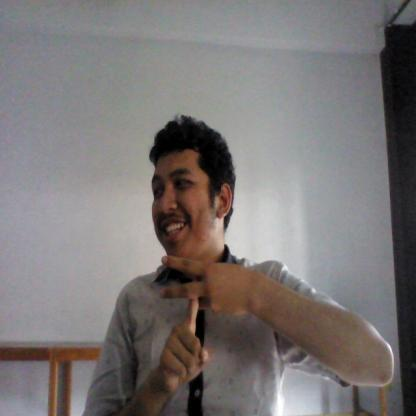F: (156, 254, 240, 394)
